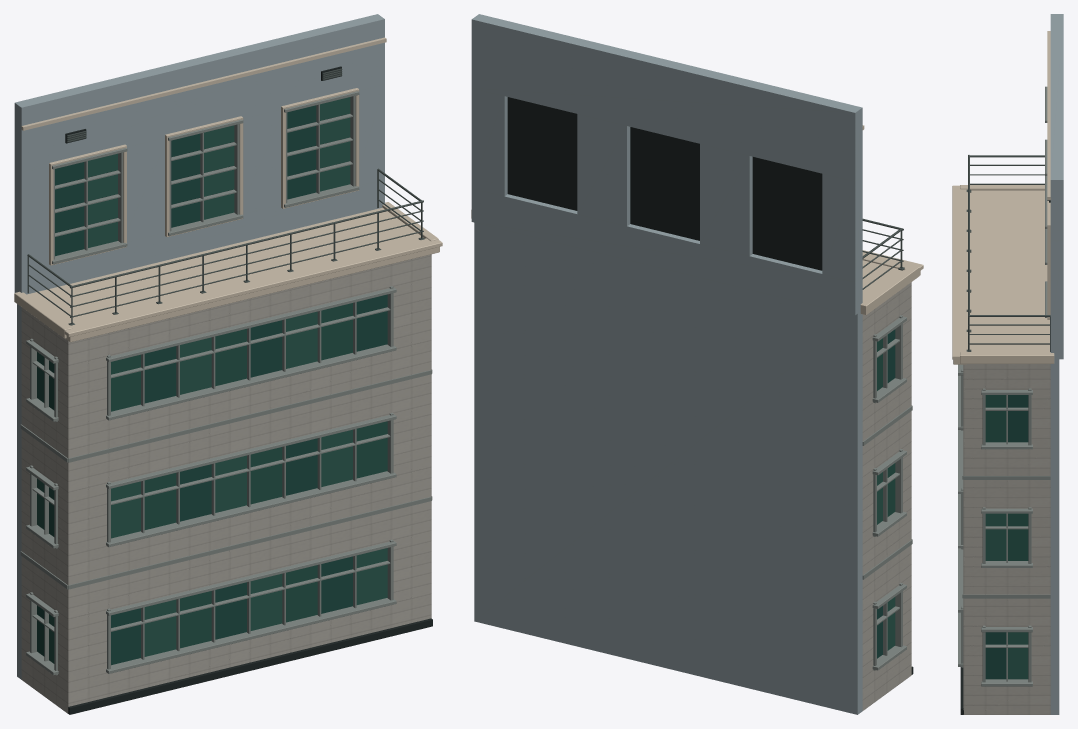
Rendered from nu-stone-projection-10p8m.glb.
3 renders of one model, left to right at view 1: azimuth 30°, elevation 25°; view 2: azimuth 150°, elevation 25°; view 3: azimuth 270°, elevation 25°, orthographic. The views are drawn at different scales.
Visible parts, largest first — view 1: nu-stone-projection-10p8m.001; view 2: nu-stone-projection-10p8m.001; view 3: nu-stone-projection-10p8m.001.
Part boxes in pixels (x1,y1,x2,y2): nu-stone-projection-10p8m.001: [14, 14, 442, 714]; nu-stone-projection-10p8m.001: [471, 14, 923, 714]; nu-stone-projection-10p8m.001: [952, 14, 1063, 714].
Size of the model in its own units: 11.13 by 16.25 by 3.07.
9 materials, 2 textured.
